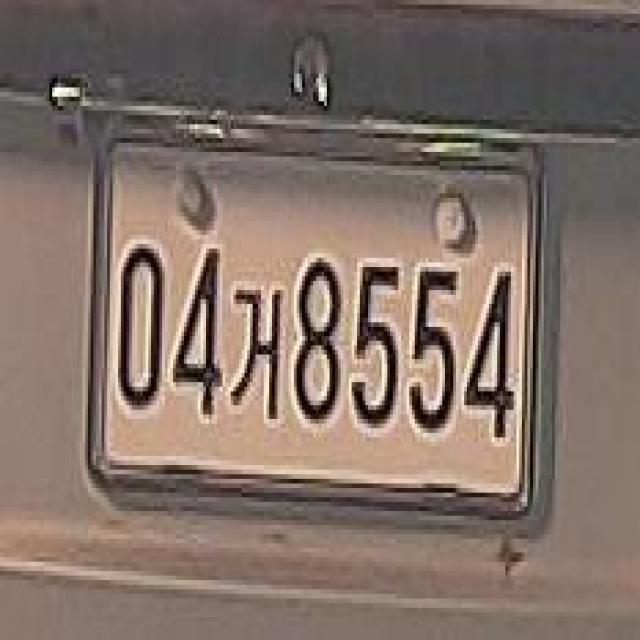illegal_plate: (76, 109, 554, 543)
